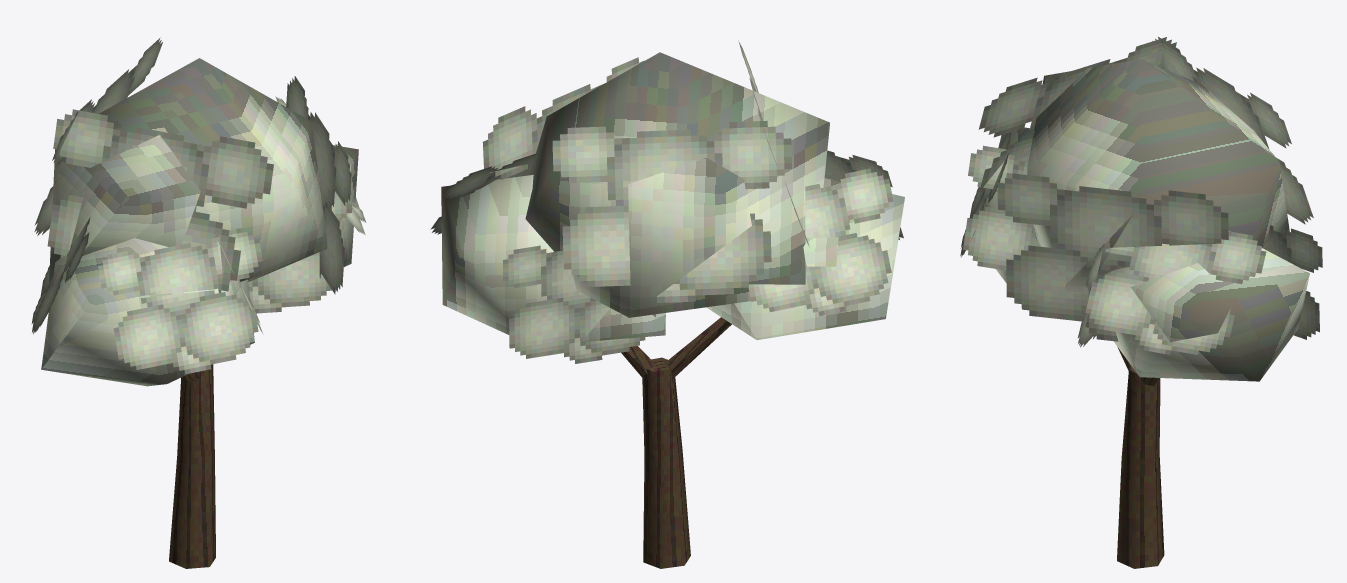
The model's file is arbol_copa.glb.
3 views of the same model, side by side, from view 1: azimuth 30°, elevation 25°; view 2: azimuth 150°, elevation 25°; view 3: azimuth 270°, elevation 25° (orthographic).
Visible parts, largest first — view 1: arbol_copa_copa, arbol_copa_borde, arbol_copa_tronco; view 2: arbol_copa_copa, arbol_copa_borde, arbol_copa_tronco; view 3: arbol_copa_copa, arbol_copa_borde, arbol_copa_tronco.
Part boxes in pixels (x1,y1,x2,y2): arbol_copa_copa: (41,58,358,386); arbol_copa_borde: (31,37,366,374); arbol_copa_tronco: (169,364,215,568); arbol_copa_copa: (441,52,904,341); arbol_copa_borde: (430,40,903,363); arbol_copa_tronco: (621,317,731,568); arbol_copa_copa: (983,59,1309,381); arbol_copa_borde: (960,37,1322,354); arbol_copa_tronco: (1117,347,1164,568).
Size of the model in its own units: 5.85 by 6.77 by 4.69.
Materials: 3 (3 with a texture image).
